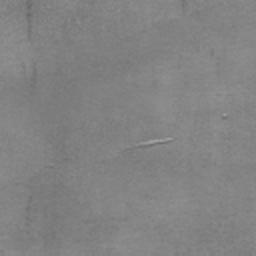Finishing roll printing: (125, 137, 174, 151)
